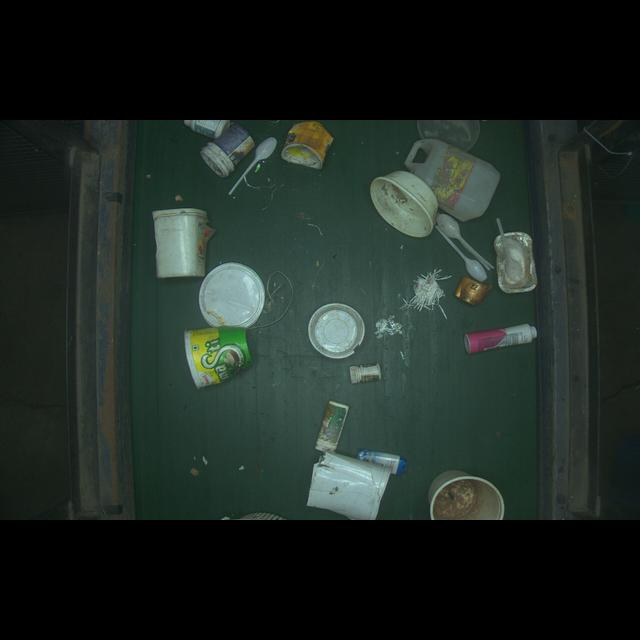mix PP: (168, 323, 268, 391), (145, 204, 216, 284), (430, 209, 502, 284), (304, 289, 373, 361), (344, 356, 397, 390)
